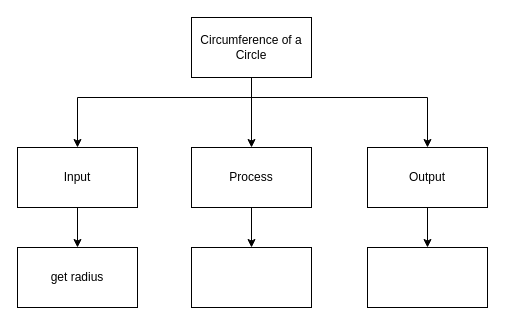
Image size: 505x325. Some labels were removed from this diagram. Here are the shapes that lost their labels. From the top down, the box of each, then its label:
(190, 246, 312, 308): Circumference = 2 πr
(366, 246, 488, 308): Show the circumference
